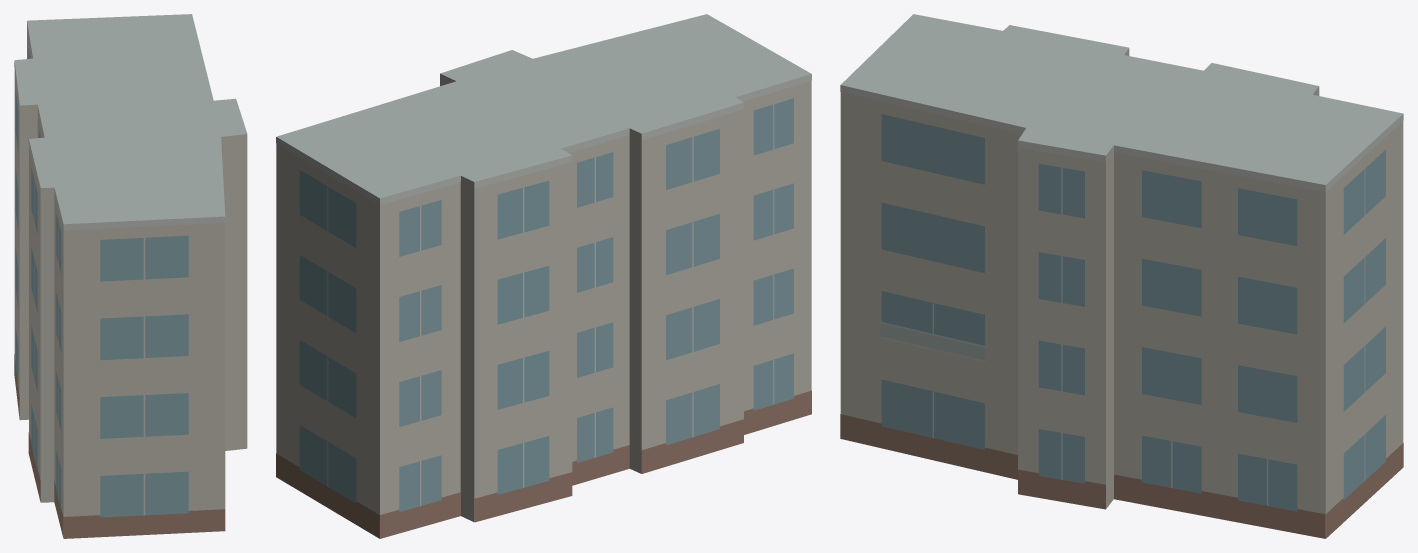
File: survey-upis-32745124.glb
3 renders of one model, left to right at view 1: azimuth 30°, elevation 25°; view 2: azimuth 150°, elevation 25°; view 3: azimuth 270°, elevation 25°, orthographic. The views are drawn at different scales.
Parts seen in each view (by area): view 1: survey-upis-32745124.tmp; view 2: survey-upis-32745124.tmp; view 3: survey-upis-32745124.tmp.
Part boxes in pixels (bbox=[...]): survey-upis-32745124.tmp: bbox=[14, 14, 247, 538]; survey-upis-32745124.tmp: bbox=[276, 14, 811, 538]; survey-upis-32745124.tmp: bbox=[840, 14, 1403, 538].
Size of the model in its own units: 12.76 by 12.3 by 17.75.
